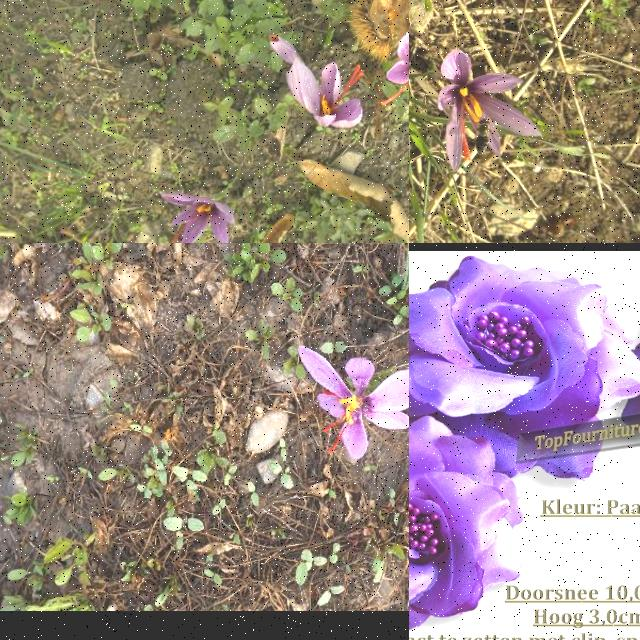flower: (436, 48, 544, 172), (297, 345, 409, 460), (287, 59, 369, 129), (160, 193, 237, 243), (382, 33, 409, 118), (269, 34, 301, 62)
